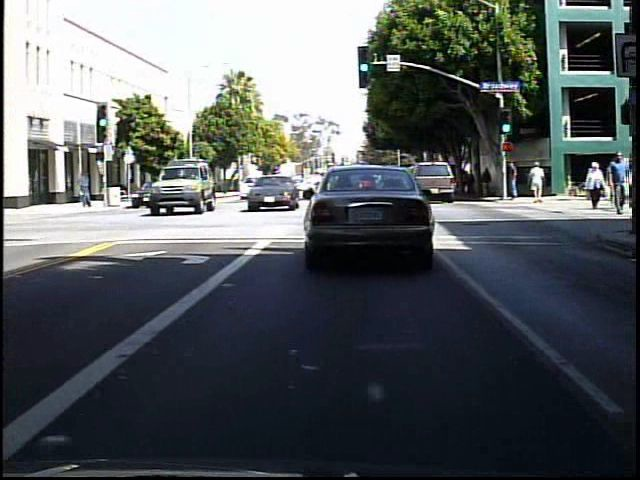person: (607, 151, 629, 217), (582, 161, 608, 211), (499, 158, 520, 206), (525, 161, 545, 206), (79, 171, 96, 209), (479, 167, 494, 199), (465, 167, 477, 199)
